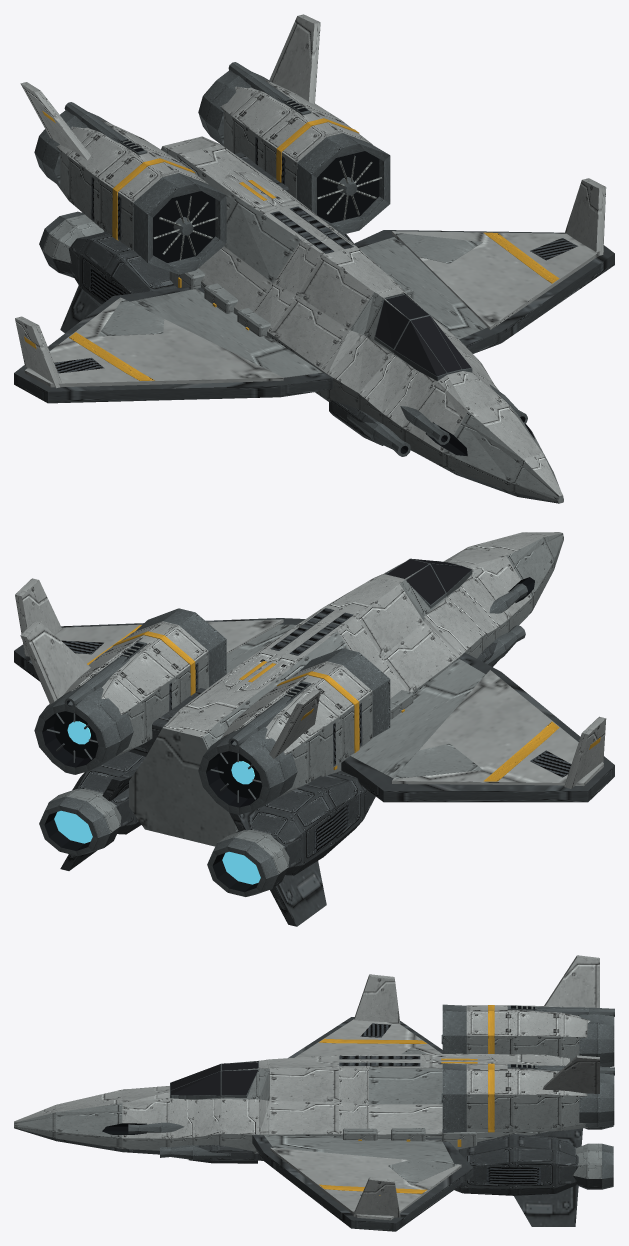
The model's file is legionary.glb.
3 views of the same model, one above another, from view 1: azimuth 30°, elevation 25°; view 2: azimuth 150°, elevation 25°; view 3: azimuth 270°, elevation 25° (orthographic). The views are drawn at different scales.
Parts seen in each view (by area): view 1: Legionary revised hull; view 2: Legionary revised hull; view 3: Legionary revised hull.
Part boxes in pixels (x1=…): Legionary revised hull: x1=14, y1=14, x2=614, y2=503; Legionary revised hull: x1=14, y1=532, x2=614, y2=926; Legionary revised hull: x1=14, y1=955, x2=614, y2=1231.
Bounding box in the file's own units: 1.61 × 0.652 × 1.99.
Materials: 2 (1 with a texture image).
